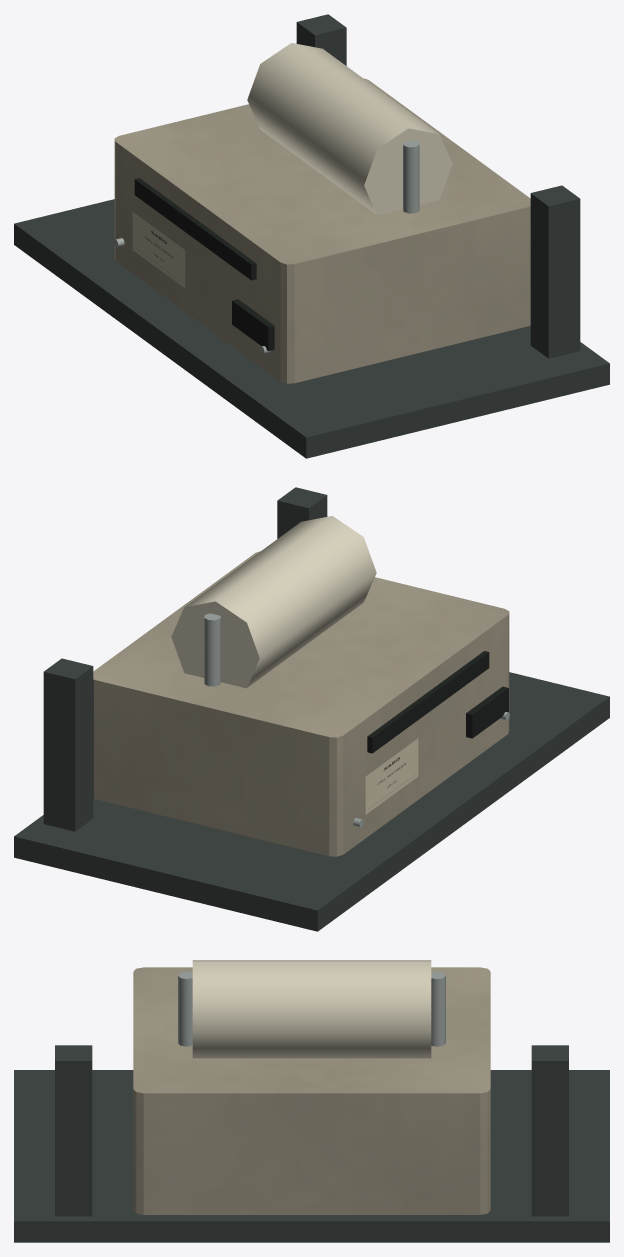
Rendered from SM_ArchiveProps_CallRecorder_LOD1.fbx.
3 views of the same model, one above another, from view 1: azimuth 30°, elevation 25°; view 2: azimuth 150°, elevation 25°; view 3: azimuth 270°, elevation 25° (orthographic).
Visible parts, largest first — view 1: SM_ArchiveProps_CallRecorder_LOD1; view 2: SM_ArchiveProps_CallRecorder_LOD1; view 3: SM_ArchiveProps_CallRecorder_LOD1.
Part boxes in pixels (x1,y1,x2,y2): SM_ArchiveProps_CallRecorder_LOD1: (14, 14, 609, 458); SM_ArchiveProps_CallRecorder_LOD1: (14, 487, 609, 931); SM_ArchiveProps_CallRecorder_LOD1: (14, 960, 609, 1242).
Size of the model in its own units: 0.24 by 0.4 by 0.166.
